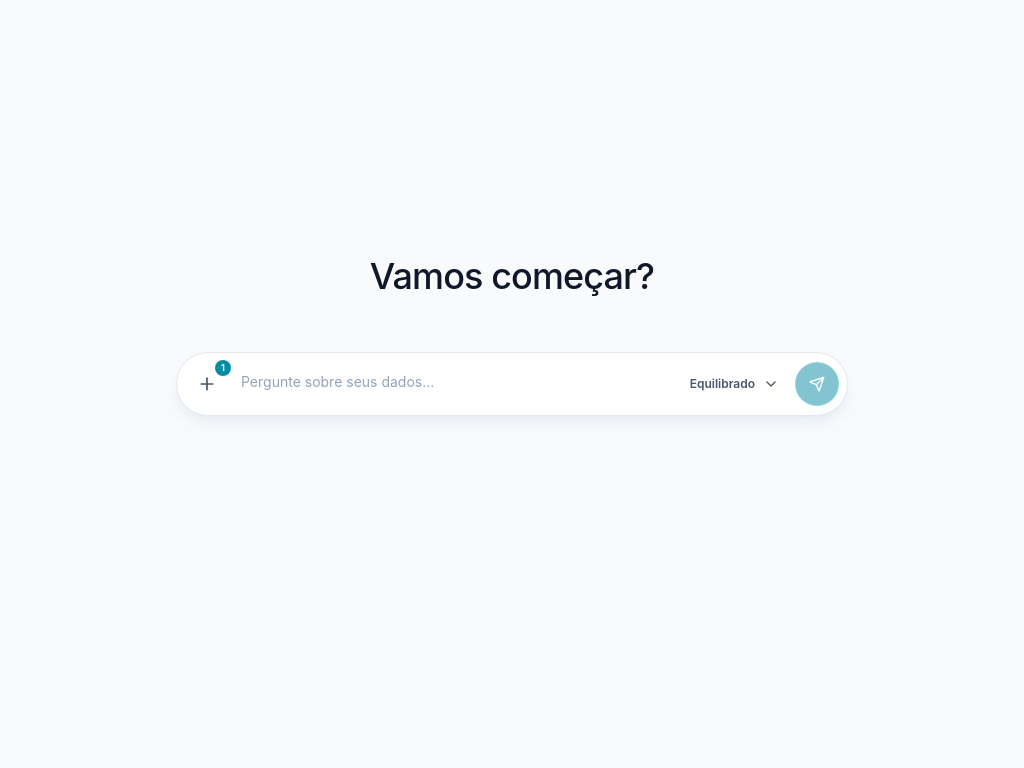
Test case: AgentPage streaming feedback › presents sources and retrieval depth in user-friendly language
What coordinates should you click on to do the following:
click the dropdown named "Profundidade da recuperação"
I would click on:
 (734, 384)
Its box is top-left (678, 362), bottom-right (791, 406).
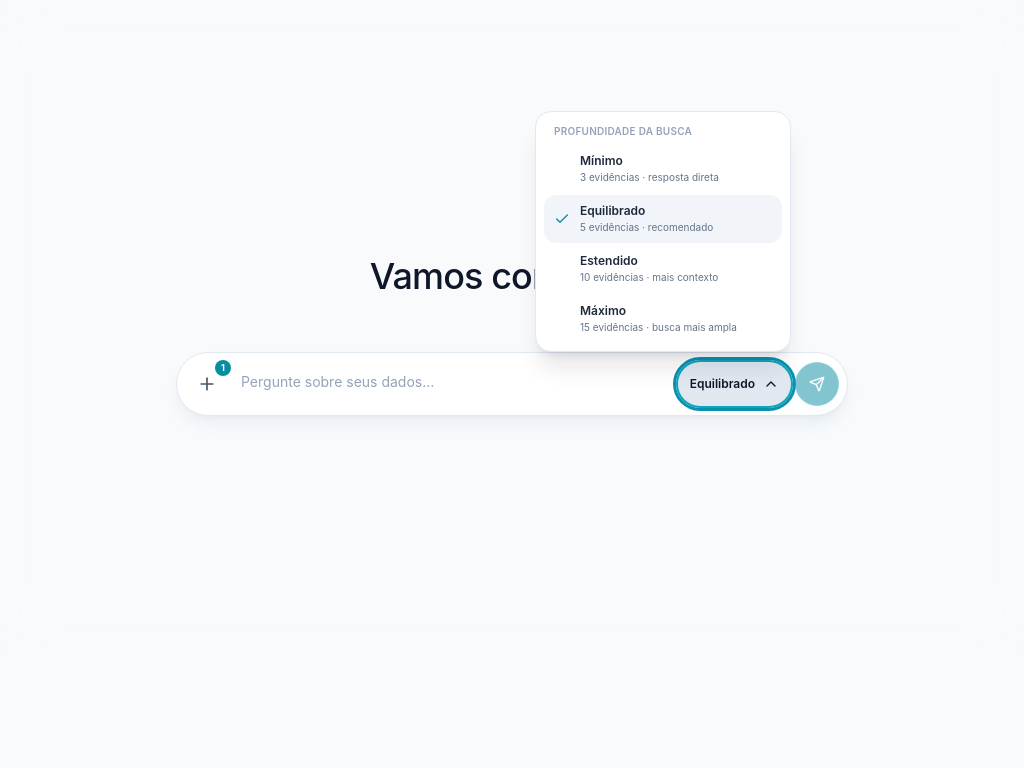
Check: the list named "Opções de profundidade" is shown, box top-left (535, 111), bottom-right (791, 352)
Check: the option "Estendido 10 evidências · mais contexto" is shown
Check: the option "Máximo 15 evidências · busca mais ampla" is shown, box top-left (544, 295), bottom-right (782, 343)
What coordinates should you click on to do the following:
click the option "Estendido 10 evidências · mais contexto"
I would click on:
 (663, 269)
Its box is top-left (544, 245), bottom-right (782, 293).
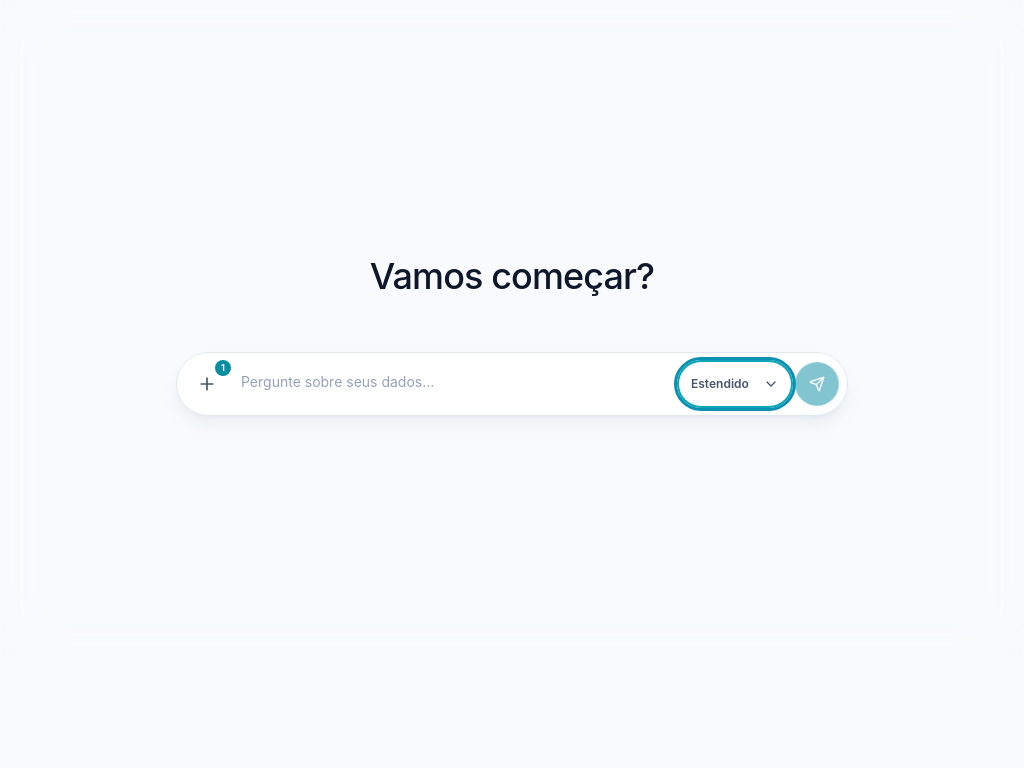
Check: the dropdown named "Profundidade da recuperação" reads "Estendido", box top-left (679, 362), bottom-right (791, 406)
What coordinates should you click on to do the following:
click the button named "Selecionar fontes. 1 arquivo selecionado"
I would click on:
 (207, 384)
Its box is top-left (185, 362), bottom-right (229, 406).
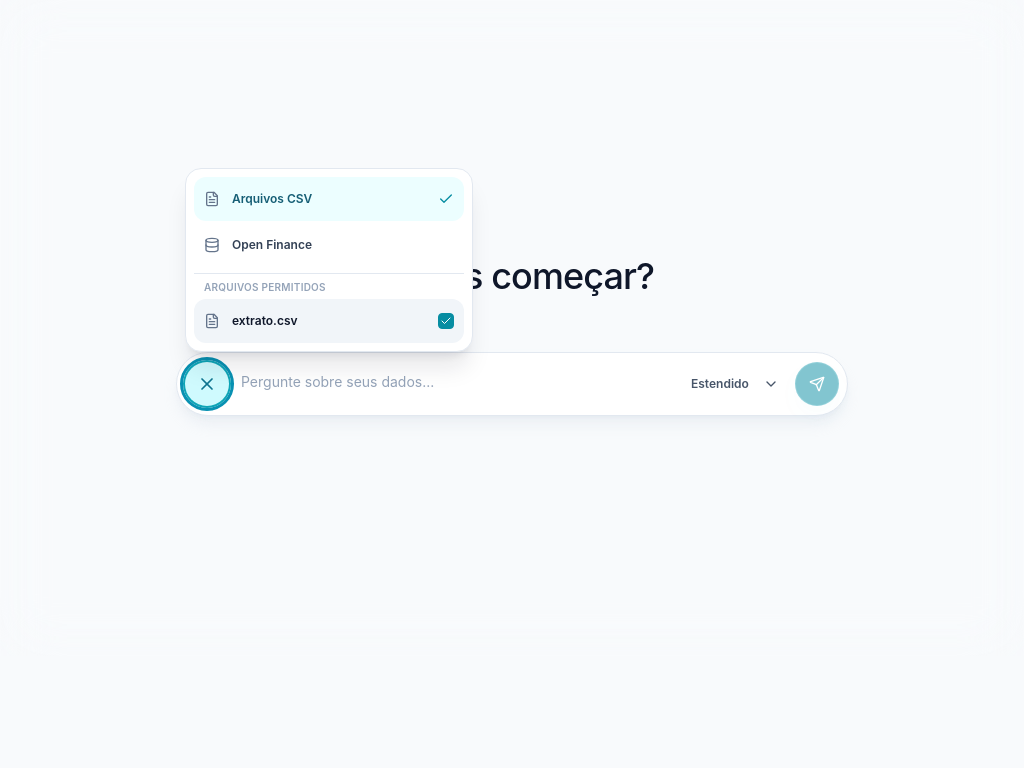
Check: the dialog named "Fontes usadas na resposta" is shown, box top-left (185, 168), bottom-right (473, 352)
Check: the element named "Origem" is shown, box top-left (194, 177), bottom-right (464, 267)
Check: the element "Arquivos permitidos" is shown, box top-left (194, 280), bottom-right (464, 343)
